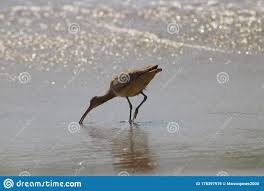Walking: (56, 59, 168, 140)
